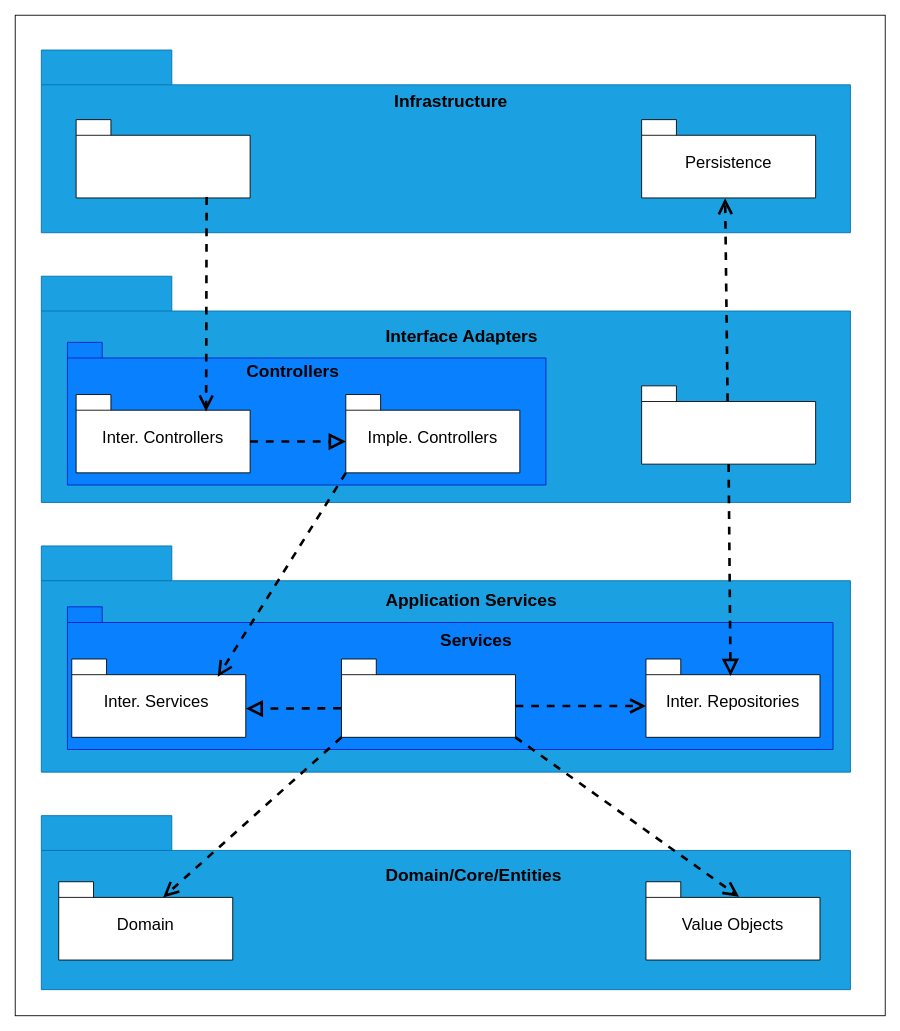
This 900x1031 diagram has some shape labels left out. Here are the shapes that lost their labels. From the top down, the centre of each, then its label:
At point (162, 158): "Routes".
At point (728, 424): "Imple. Repositories".
At point (428, 697): "Imple. Services".
